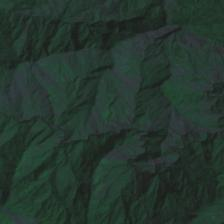landslides: (88, 118, 99, 134), (98, 5, 106, 21), (40, 90, 48, 103)
